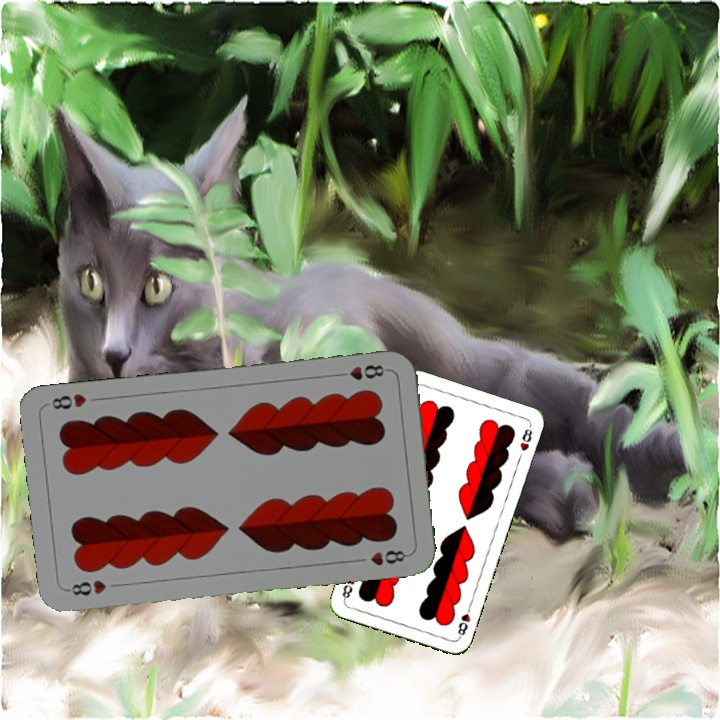H8: (332, 361, 391, 383), (63, 576, 109, 598), (453, 601, 474, 641)
